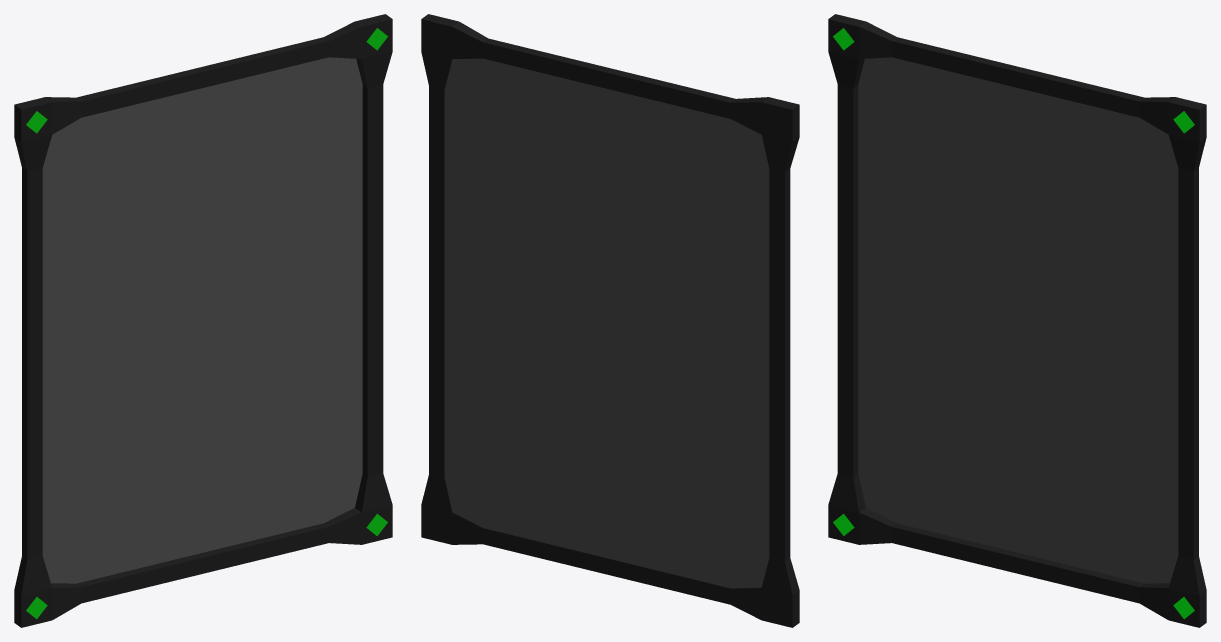
File: display-frame-tall.glb
The picture shows the model from 3 angles, left to right: view 1: azimuth 30°, elevation 25°; view 2: azimuth 150°, elevation 25°; view 3: azimuth 330°, elevation 25°; orthographic projection.
Parts seen in each view (by area): view 1: Cube.001; view 2: Cube.001; view 3: Cube.001.
Part boxes in pixels (bbox=[...]): Cube.001: bbox=[14, 14, 392, 627]; Cube.001: bbox=[421, 14, 799, 627]; Cube.001: bbox=[828, 14, 1206, 627].
Bounding box in the file's own units: 1.2 × 1.6 × 0.04.
Materials: 1 (1 with a texture image).
